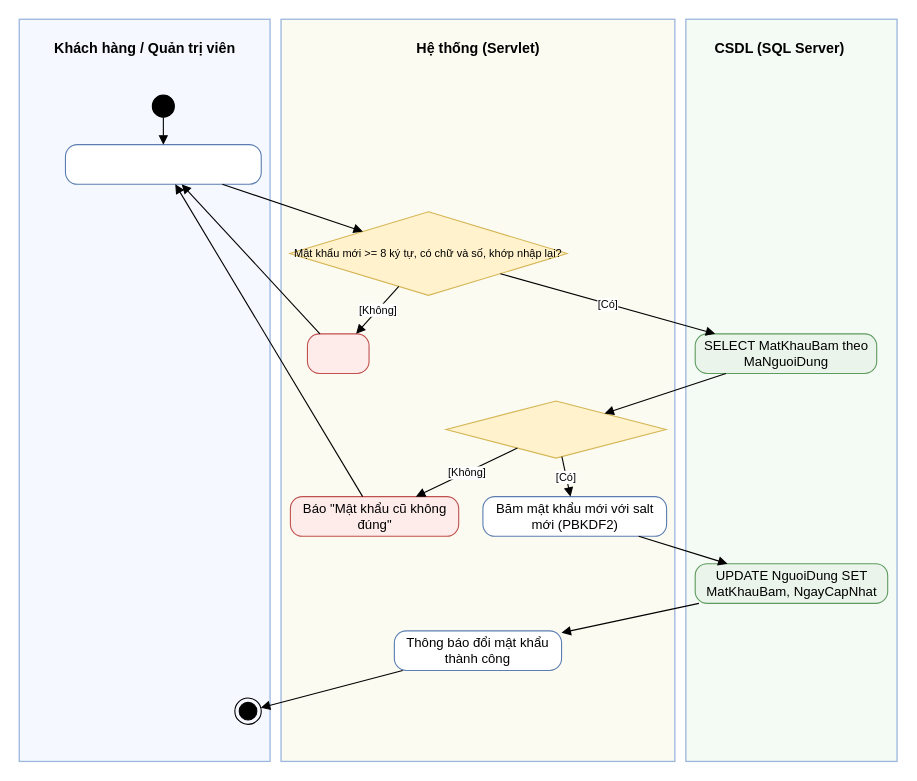
This 917x781 diagram has some shape labels left out. Each missing label, with the centre of its shape:
Báo lỗi: the point at 337,353
Mật khẩu cũ khớp hash?: the point at 555,429
Nhập mật khẩu cũ, mật khẩu mới, nhập lại mật khẩu mới: the point at 162,164
